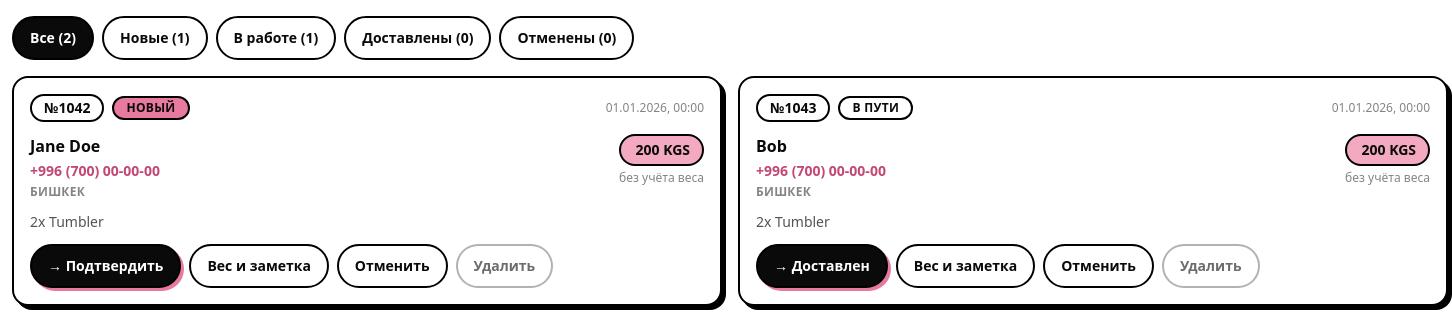
Scenario: OrdersTable › filters by status with counts
Click the button "В работе (1)": [276, 38] box x1=216 y1=16 x2=336 y2=60
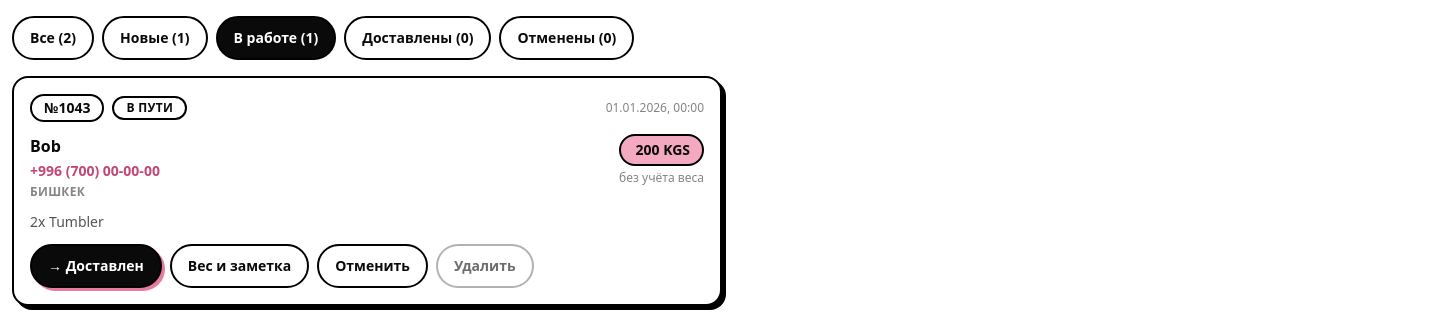
Expected: the text "Bob" is shown, x1=30 y1=135 x2=61 y2=157
Expected: the text "Jane Doe" is gone
